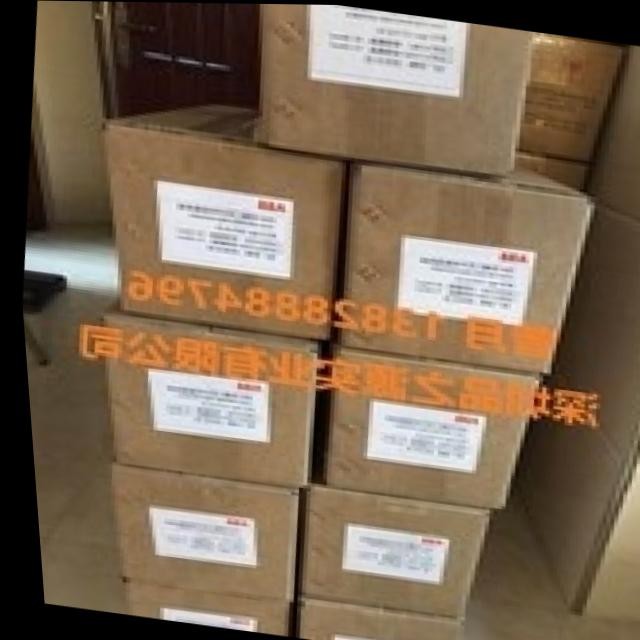box: (103, 101, 350, 342), (334, 158, 594, 375), (256, 3, 533, 175), (310, 343, 538, 512), (103, 311, 315, 488), (104, 460, 294, 601), (290, 484, 482, 616), (115, 579, 285, 633), (289, 596, 452, 640)
